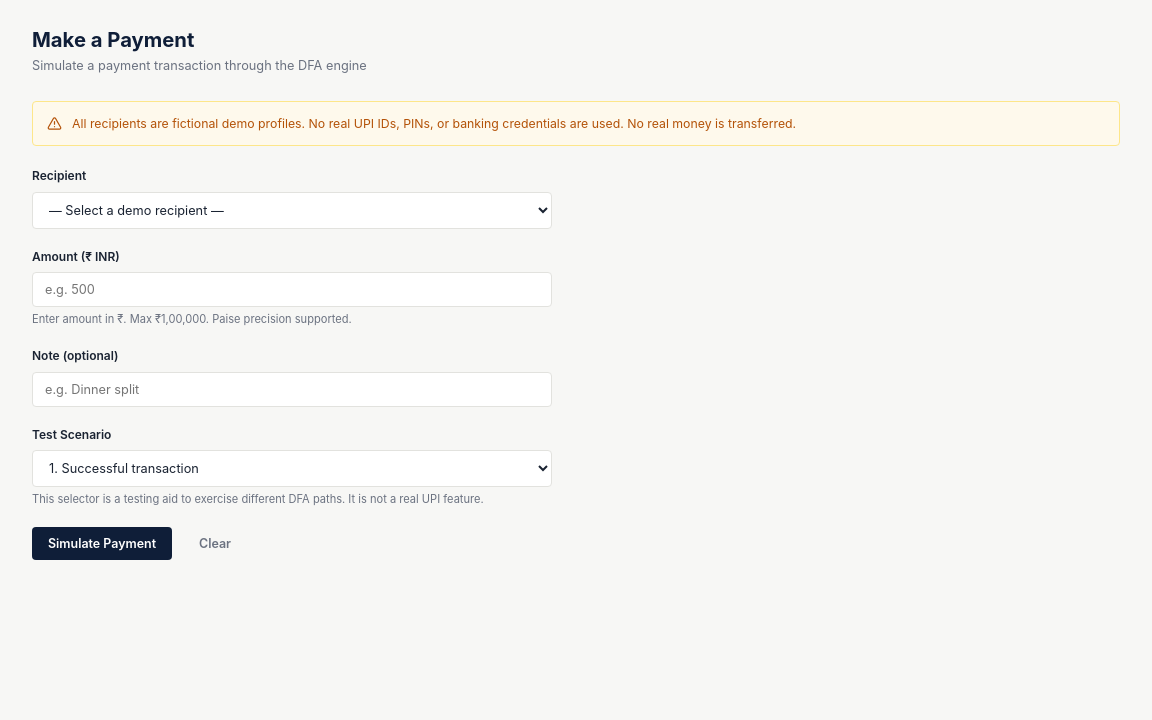
Scenario: Payment form › shows success result after successful transaction
Step 1. Select "Alex Sharma (alex@demo)" in the dropdown labelled "Recipient" → (292, 210), box x1=32 y1=192 x2=552 y2=228
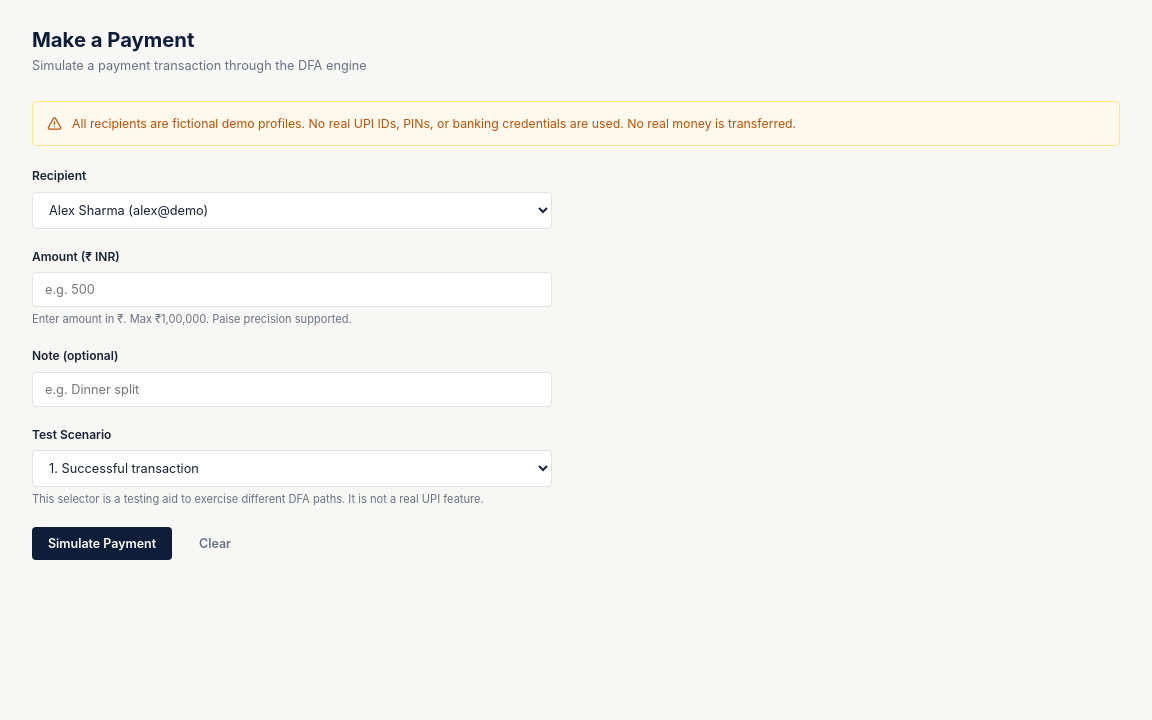
Step 2. Type "500" into the number field labelled "Amount (₹ INR)" → (292, 289), box x1=32 y1=272 x2=552 y2=307
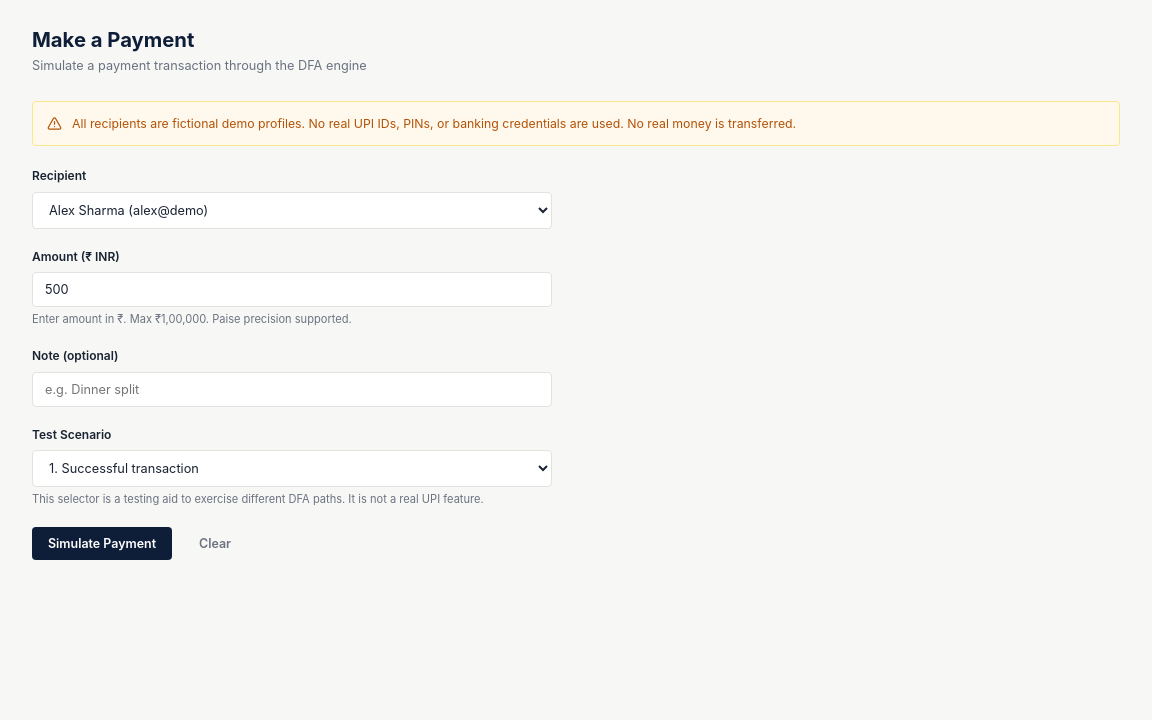
Step 3. Click the button "Simulate Payment" → (102, 543), box x1=32 y1=527 x2=172 y2=560
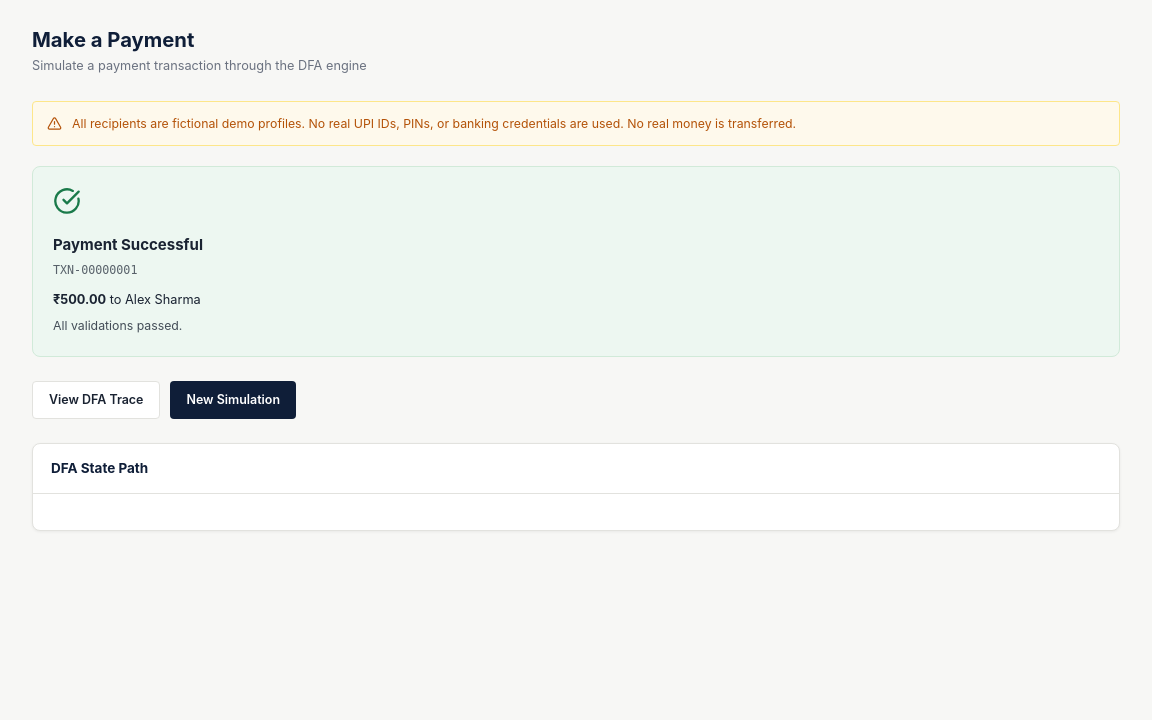
expect the text "Payment Successful" is shown: met, box x1=53 y1=235 x2=203 y2=254
